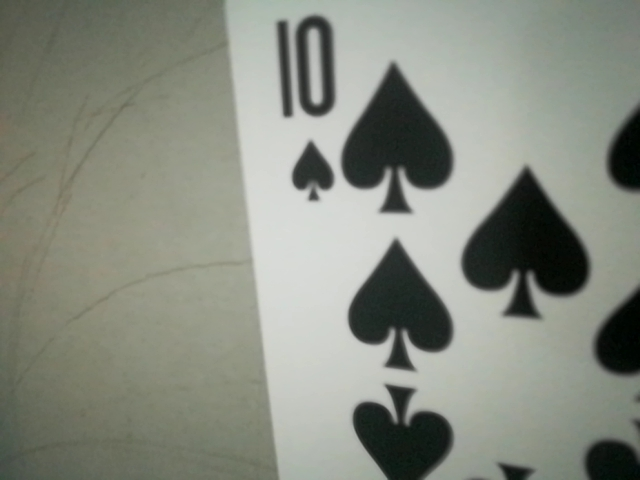ht 10: (260, 2, 352, 218)
